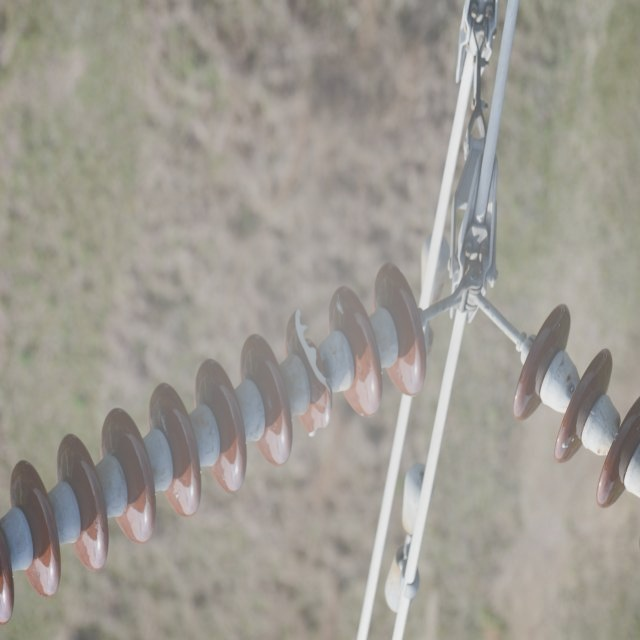broken: (294, 300, 331, 441)
insulator: (0, 263, 426, 622), (514, 306, 635, 507)
